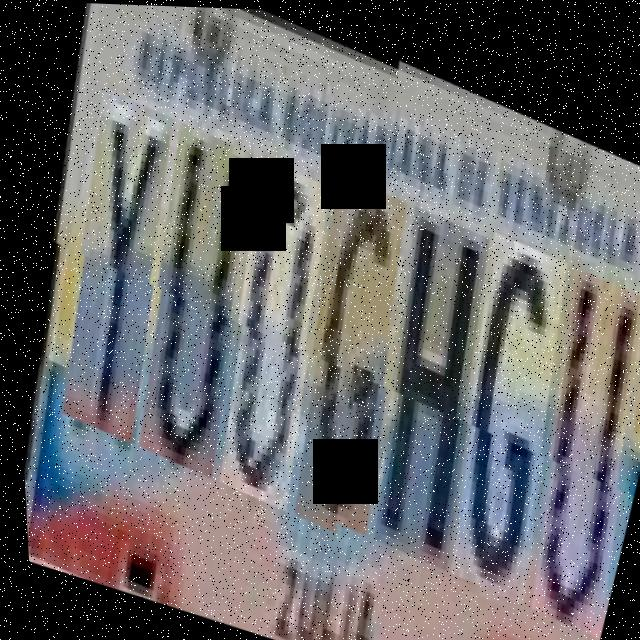0: (169, 148, 367, 503)
G: (397, 225, 606, 597), (245, 171, 446, 533)
H: (321, 203, 527, 566)
U: (88, 115, 291, 472), (478, 257, 640, 628)
Y: (12, 85, 210, 438)
